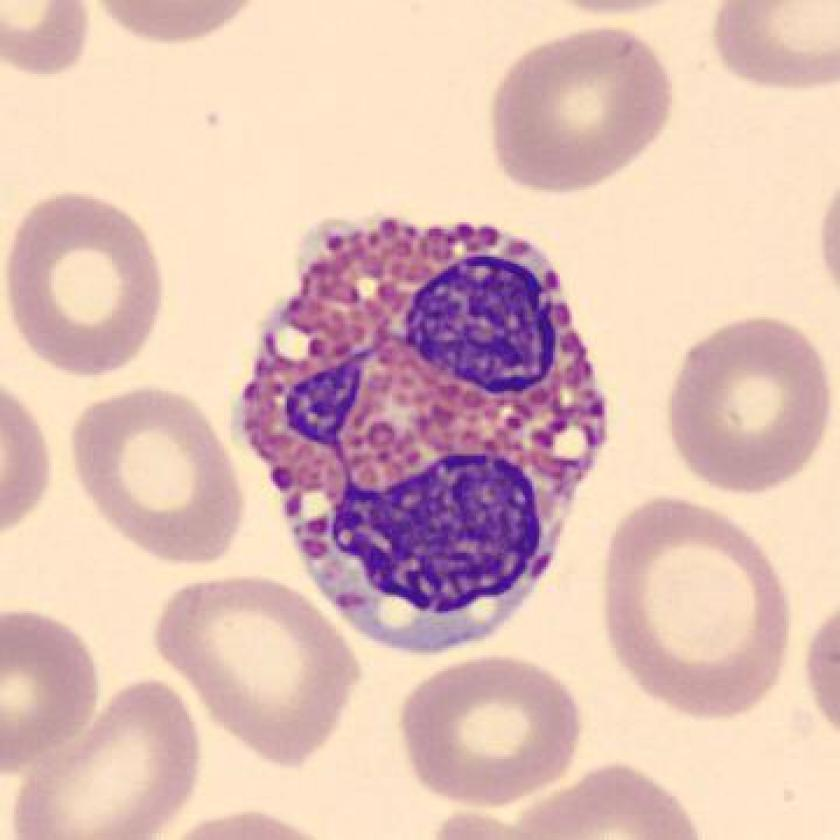eosinophil: (218, 189, 622, 668)
